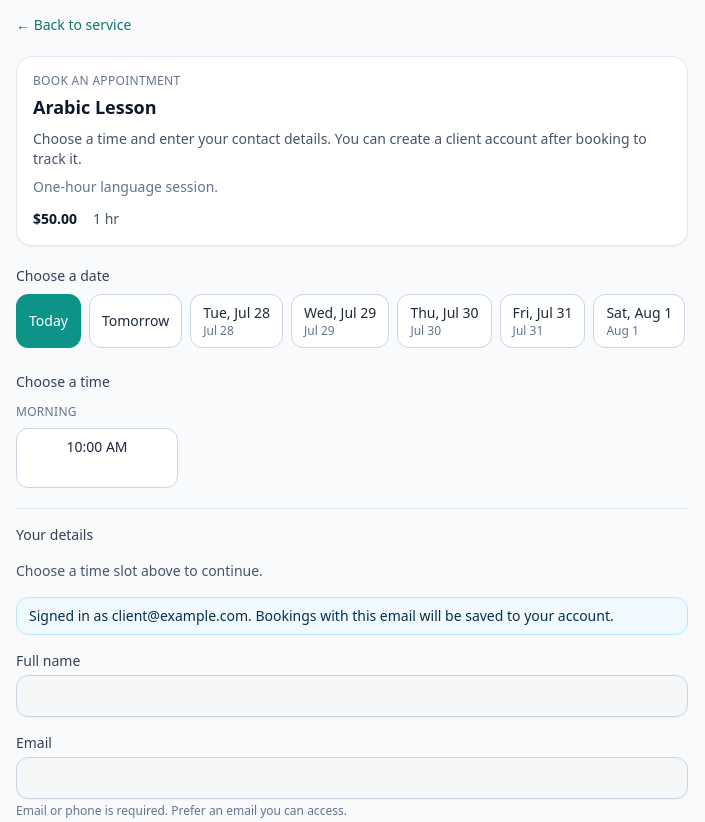
it: client account creation flow clarity › signed-in booking form shows account helper and email mismatch warning
Click the button "10:00 AM" at (97, 458), box [16,428,178,488]
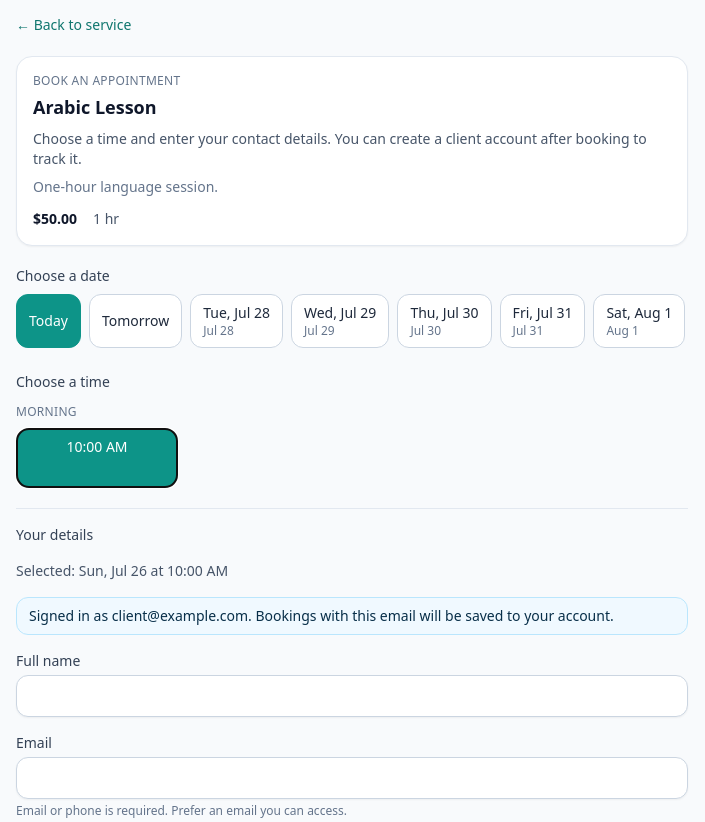
Type "different@example.com" into the field labelled "Email" at (352, 778), box [16,757,688,799]
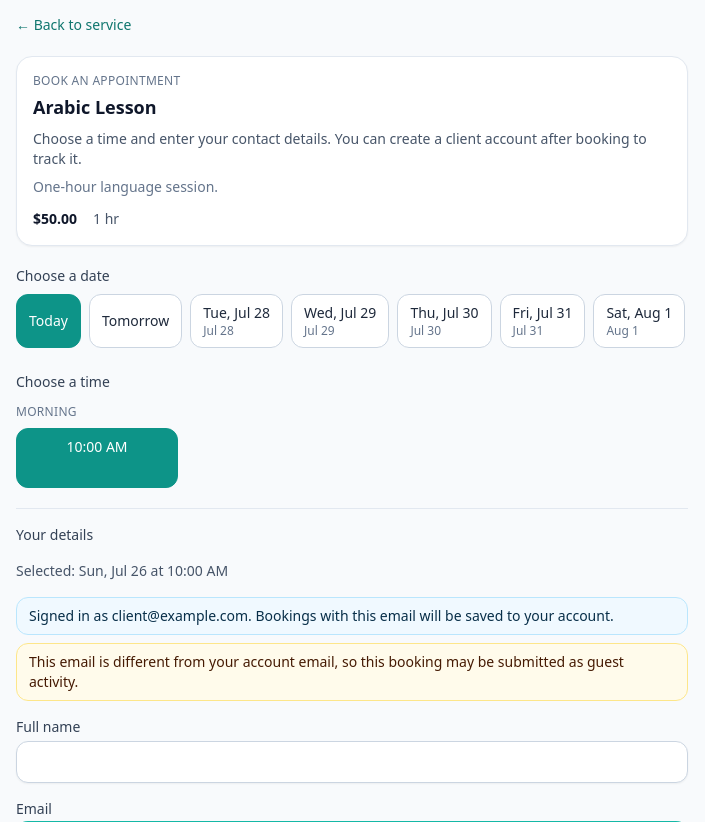
Expected: the text with test id "public-form-email-mismatch-hint" shows "submitted as guest activity", [29,652,624,691]
